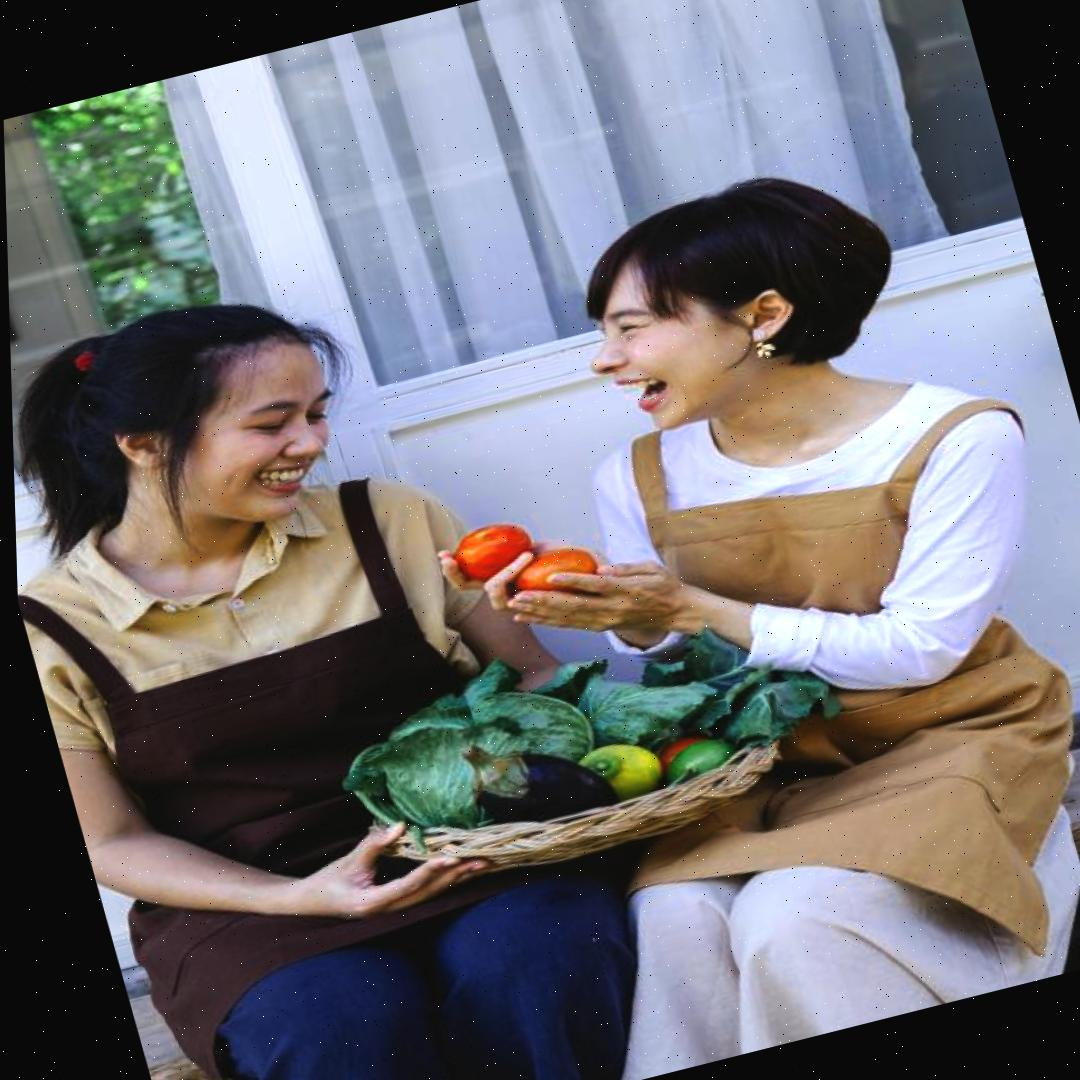matang: (507, 539, 601, 607), (448, 516, 538, 586)
